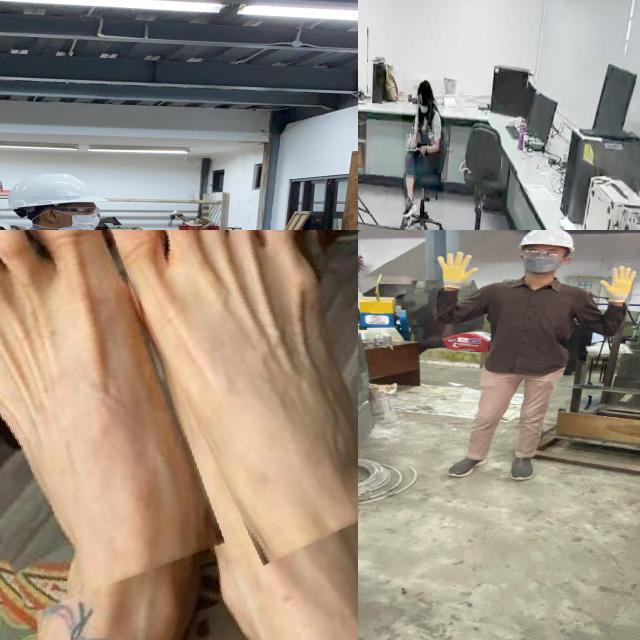Barefoots: (113, 230, 358, 609), (0, 230, 213, 601)
face_mask: (50, 202, 105, 230), (520, 248, 566, 274), (419, 100, 429, 121)
glasses: (39, 205, 102, 218), (518, 247, 568, 260)
hand_glove: (431, 250, 480, 284), (598, 264, 640, 297)
hand_noglove: (406, 134, 417, 148), (417, 144, 427, 156)
head_helmet: (5, 170, 99, 209), (515, 230, 577, 249)
head_nohelmet: (417, 79, 432, 95)
person: (426, 230, 640, 485), (402, 80, 444, 219)
shoes: (441, 452, 490, 478), (502, 452, 537, 482), (402, 193, 417, 218)
